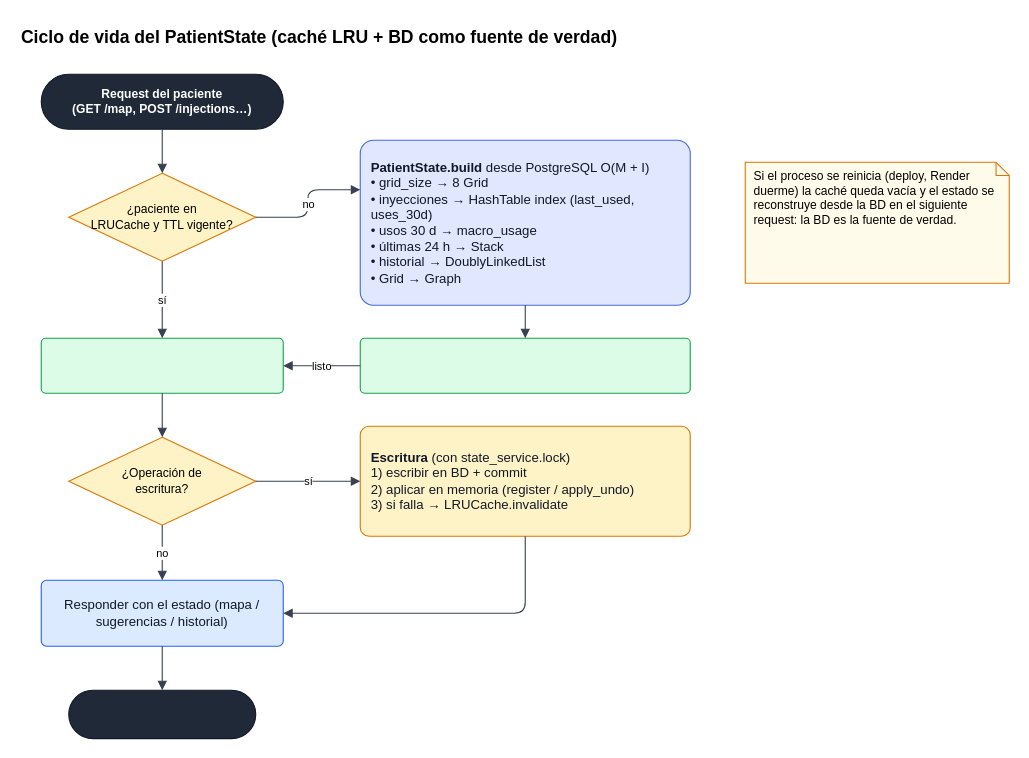
Image size: 1029x758. Some labels were removed from this diagram. Here are the shapes that lost their labels. From the top down, the box of each, then its label:
(40, 337, 283, 393): Estado disponible (LRUCache.get → al frente O(1))
(359, 337, 690, 393): LRUCache.put(patient_id, state) (expulsa el menos usado)
(68, 689, 256, 739): Fin
